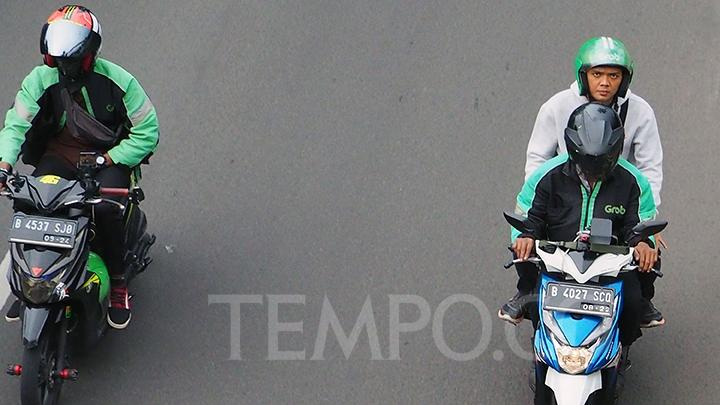motorbike: (1, 5, 174, 404), (497, 27, 662, 405)
